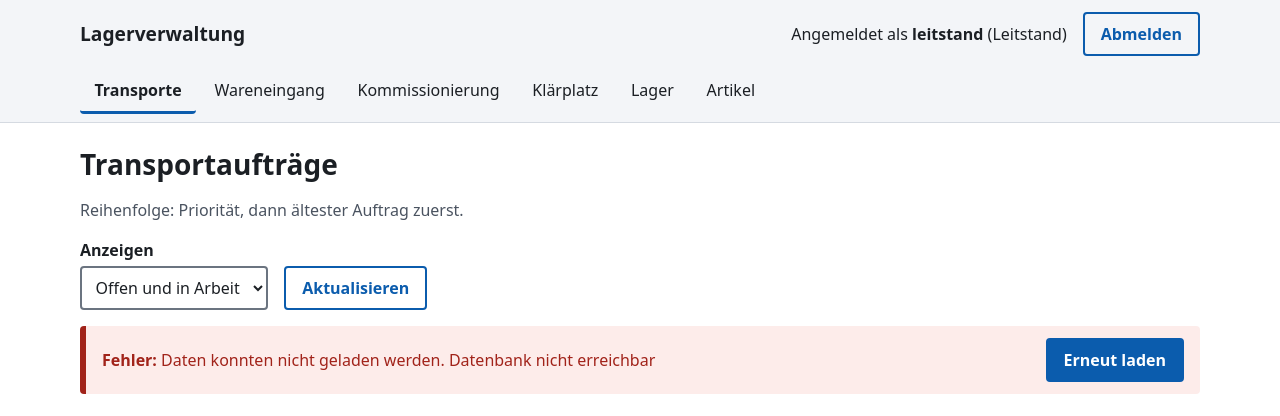
Scenario: Ladefehler mit Knopf zum erneuten Laden
Click the button "Erneut laden": [1115, 360] box top-left (1046, 338), bottom-right (1184, 382)
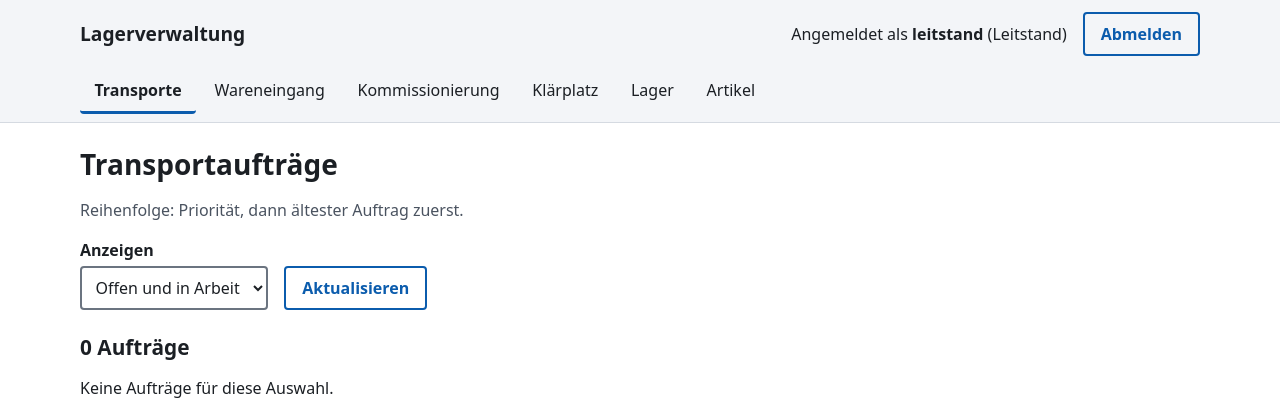
Now the text "Keine Aufträge für diese Auswahl." is shown, box top-left (80, 377), bottom-right (334, 399)
